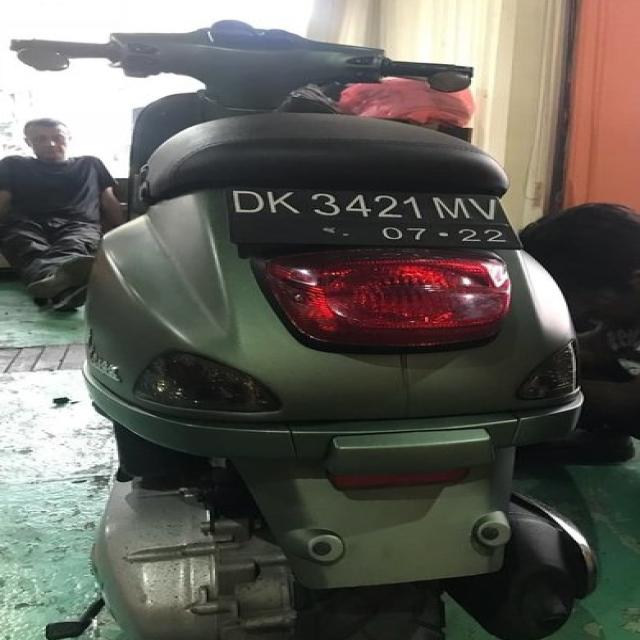plate: (226, 186, 514, 247)
